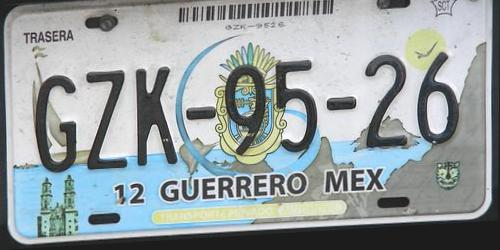License_Plate: (6, 0, 488, 237)
